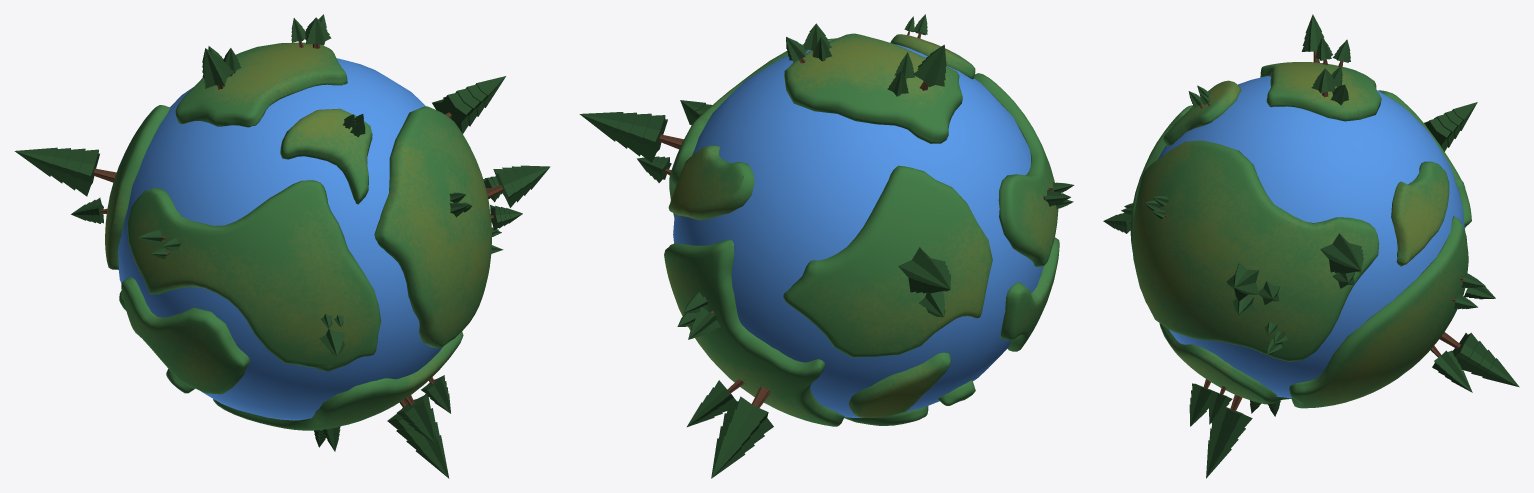
Rendered from planet2_trees.fbx.
3 renders of one model, left to right at view 1: azimuth 30°, elevation 25°; view 2: azimuth 150°, elevation 25°; view 3: azimuth 270°, elevation 25°, orthographic. The views are drawn at different scales.
Parts seen in each view (by area): view 1: Grass, planet_low; view 2: Grass, planet_low; view 3: Grass, planet_low.
Part boxes in pixels (left/top/right/bottom): Grass: left=14, top=14, right=550, bottom=478; planet_low: left=118, top=58, right=442, bottom=420; Grass: left=579, top=14, right=1074, bottom=478; planet_low: left=673, top=44, right=1043, bottom=417; Grass: left=1103, top=14, right=1519, bottom=478; planet_low: left=1157, top=76, right=1464, bottom=398.
Size of the model in its own units: 268 by 259 by 255.
